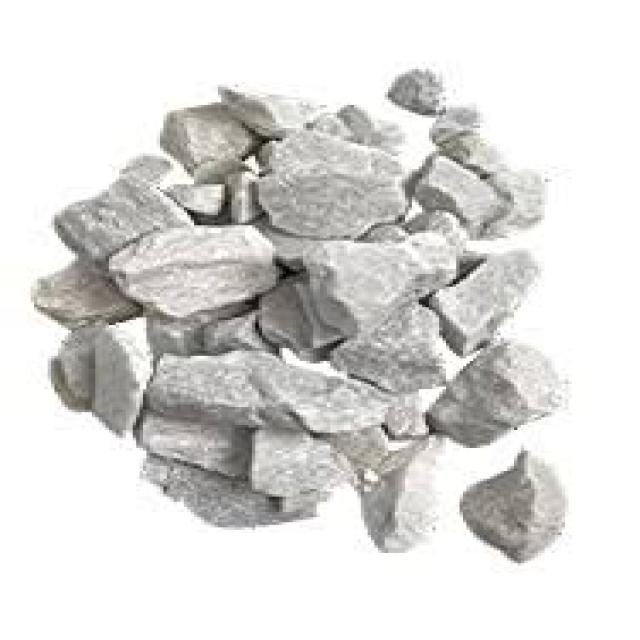Metamorphic: (44, 69, 603, 566)
